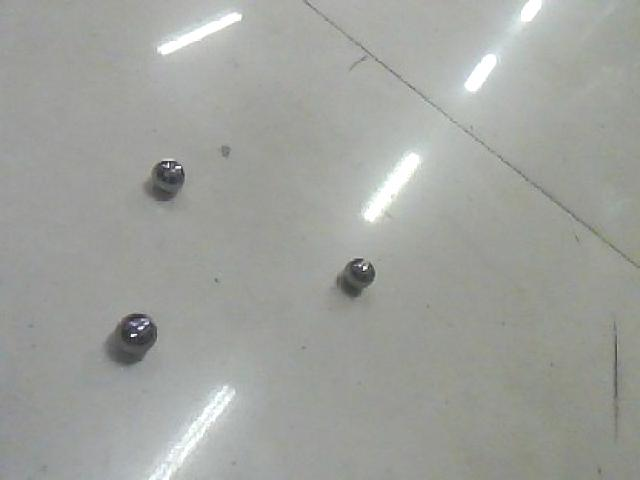steel-ball: (86, 275, 163, 374), (325, 246, 412, 311), (132, 138, 197, 191)
